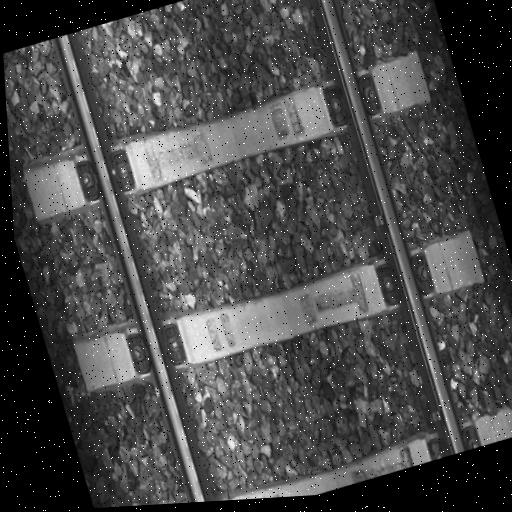sleeper: (65, 221, 491, 400), (14, 50, 439, 223), (117, 400, 512, 507)
